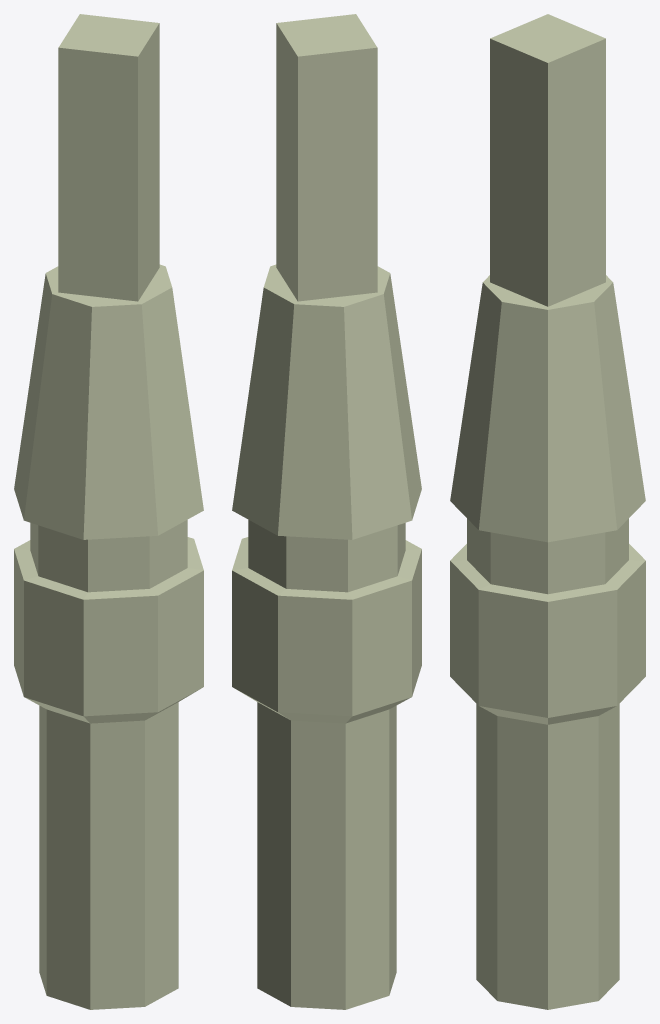
File: turret_large1_barrel.obj
3 views of the same model, side by side, from view 1: azimuth 30°, elevation 25°; view 2: azimuth 150°, elevation 25°; view 3: azimuth 270°, elevation 25° (orthographic).
Parts seen in each view (by area): view 1: turret_large1_barrel_Cylinder.001; view 2: turret_large1_barrel_Cylinder.001; view 3: turret_large1_barrel_Cylinder.001.
Part boxes in pixels (x1=…): turret_large1_barrel_Cylinder.001: x1=14, y1=14, x2=203, y2=1009; turret_large1_barrel_Cylinder.001: x1=232, y1=14, x2=421, y2=1009; turret_large1_barrel_Cylinder.001: x1=450, y1=14, x2=645, y2=1009.
Size of the model in its own units: 0.1365 by 0.724 by 0.1365.
